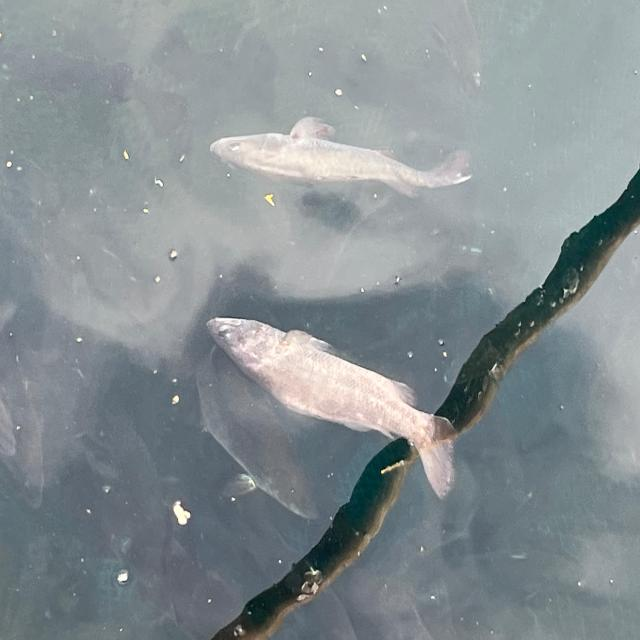ikan: (205, 314, 459, 500), (209, 114, 473, 200)
